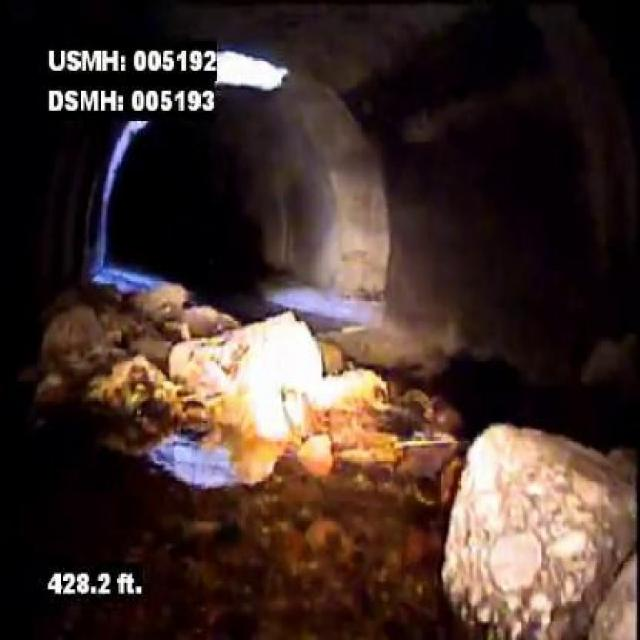Debris: (37, 248, 391, 504)
Obstacle: (443, 358, 640, 638)
